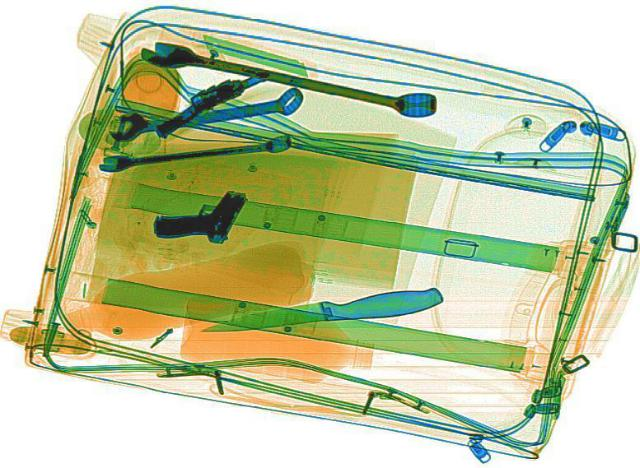Gun: (143, 58, 267, 141), (144, 175, 250, 249)
Knife: (197, 280, 445, 344)
Wrench: (132, 35, 442, 120), (104, 84, 308, 141), (95, 132, 293, 171)
